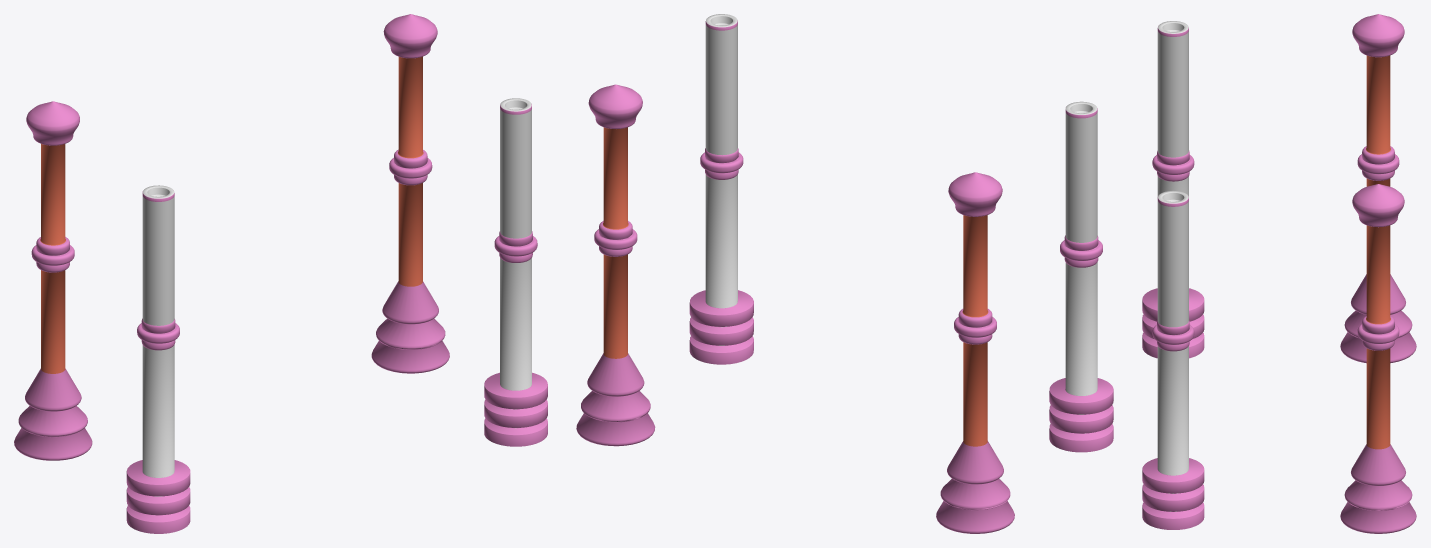
The model's file is One.fbx.
3 renders of one model, left to right at view 1: azimuth 30°, elevation 25°; view 2: azimuth 150°, elevation 25°; view 3: azimuth 270°, elevation 25°, orthographic. The views are drawn at different scales.
Parts seen in each view (by area): view 1: Circle.002, Circle.001, Circle.003, Circle; view 2: Circle.002, Circle.001, Circle, Circle.003; view 3: Circle.001, Circle.003, Circle, Circle.002.
Boxes of the visible parts, bbox=[...] form: Circle.002: bbox=[126, 185, 190, 533]; Circle.001: bbox=[484, 98, 547, 446]; Circle.003: bbox=[371, 14, 449, 373]; Circle: bbox=[14, 101, 92, 460]; Circle.002: bbox=[1049, 101, 1113, 452]; Circle.001: bbox=[689, 14, 753, 364]; Circle: bbox=[936, 172, 1014, 533]; Circle.003: bbox=[576, 84, 655, 446]; Circle.001: bbox=[1142, 190, 1204, 529]; Circle.003: bbox=[1340, 184, 1416, 533]; Circle: bbox=[1340, 14, 1416, 363]; Circle.002: bbox=[1142, 21, 1204, 358].
Bounding box in the file's own units: 191 × 147 × 109.
